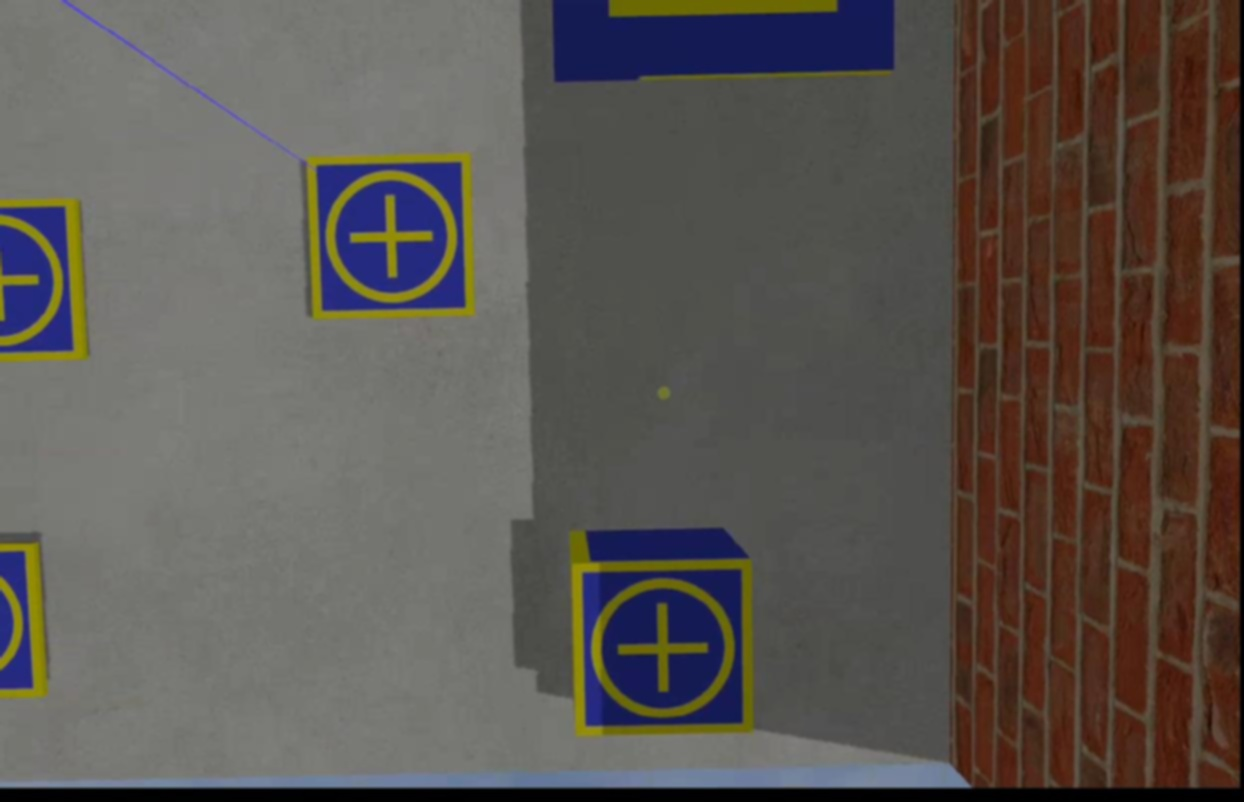large_base: (551, 1, 893, 87)
small_base: (571, 555, 755, 739), (306, 154, 480, 326), (0, 194, 93, 364), (0, 536, 48, 707)
